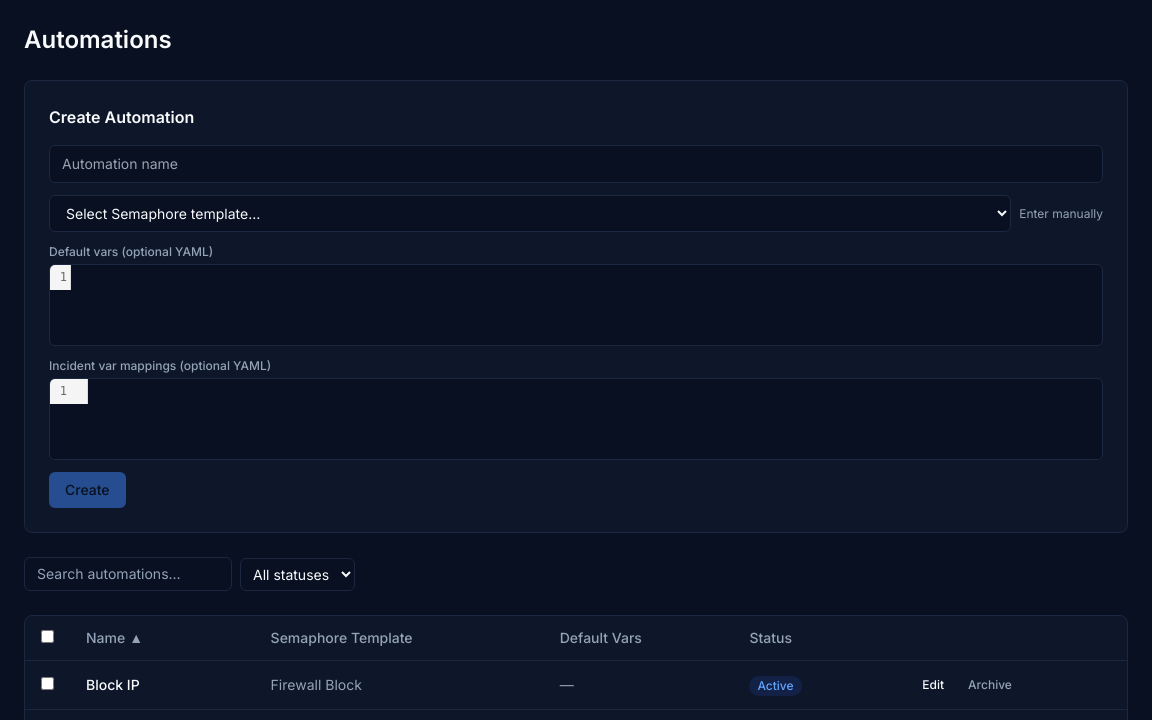
Test: AutomationsAdmin › filters by status
Expected: the text "Block IP" is shown, [70,660,255,710]
Step 1. Select "Archived" in the dropdown named "Status filter" → point(298, 574), box [240,558,355,590]
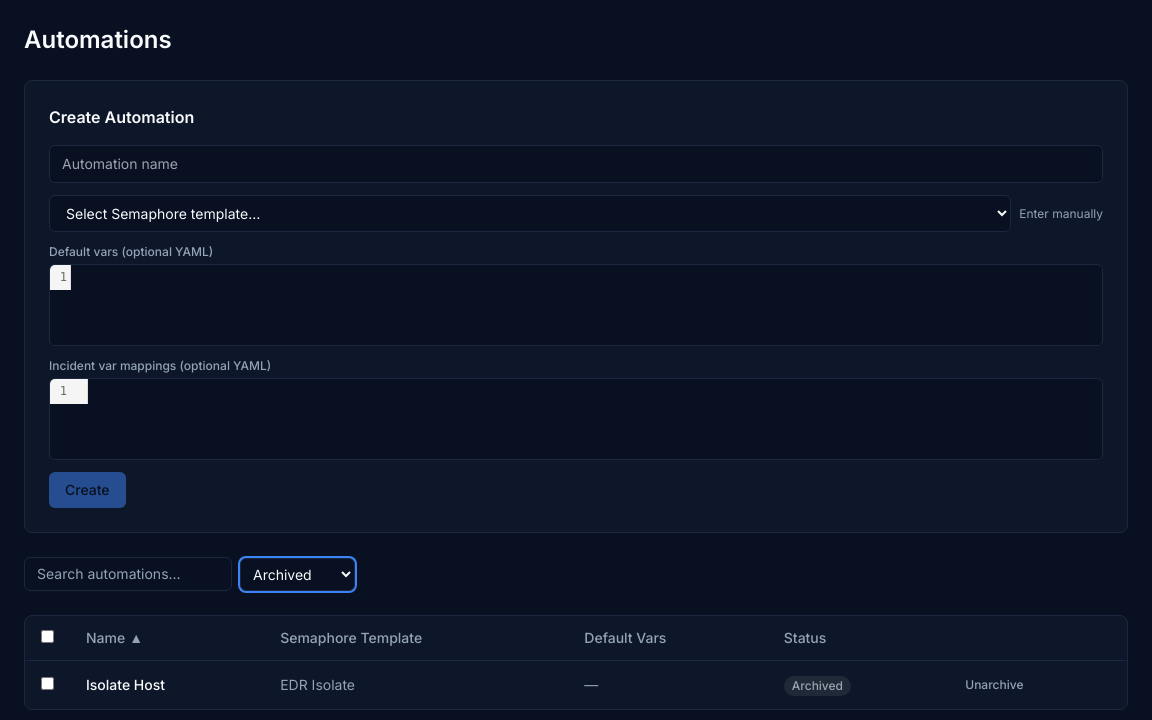
Expected: the text "Isolate Host" is shown, [70,660,264,709]
Expected: the text "Block IP" is gone
